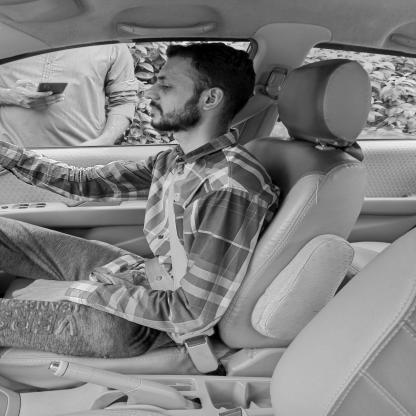seatbelt: (140, 46, 254, 249)
